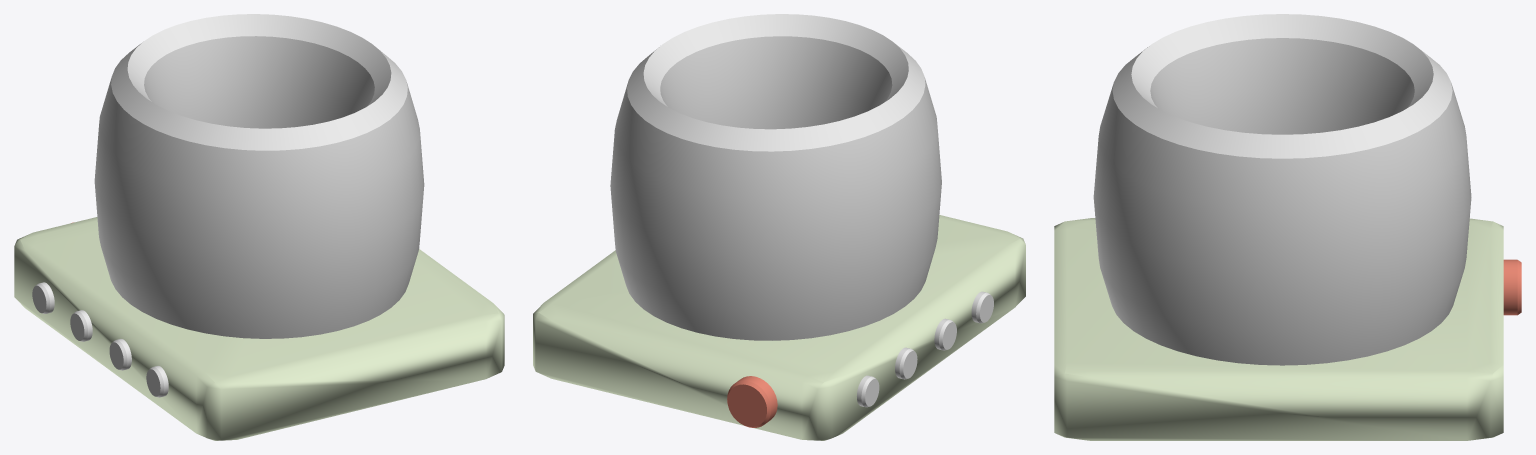
Rendered from santrifuj.fbx.
3 views of the same model, side by side, from view 1: azimuth 30°, elevation 25°; view 2: azimuth 150°, elevation 25°; view 3: azimuth 270°, elevation 25° (orthographic). The views are drawn at different scales.
Visible parts, largest first — view 1: Torus.006, Cube, Cylinder.003, Cylinder.004, Cylinder.002, Cylinder.005; view 2: Torus.006, Cube, Cylinder.001, Cylinder.005, Cylinder.002, Cylinder.003, Cylinder.004; view 3: Torus.006, Cube, Cylinder.001.
Boxes of the visible parts, <box> form: Torus.006: <box>94,14,424,338</box>; Cube: <box>14,217,504,440</box>; Cylinder.003: <box>70,310,92,341</box>; Cylinder.004: <box>109,339,131,370</box>; Cylinder.002: <box>32,282,54,313</box>; Cylinder.005: <box>146,366,168,397</box>; Torus.006: <box>610,14,941,340</box>; Cube: <box>533,215,1025,440</box>; Cylinder.001: <box>727,376,777,427</box>; Cylinder.005: <box>971,291,993,323</box>; Cylinder.002: <box>857,375,879,407</box>; Cylinder.003: <box>895,347,917,379</box>; Cylinder.004: <box>934,318,956,350</box>; Torus.006: <box>1093,14,1471,365</box>; Cube: <box>1054,218,1503,440</box>; Cylinder.001: <box>1503,259,1521,315</box>.
Size of the model in its own units: 260 by 215 by 314.
